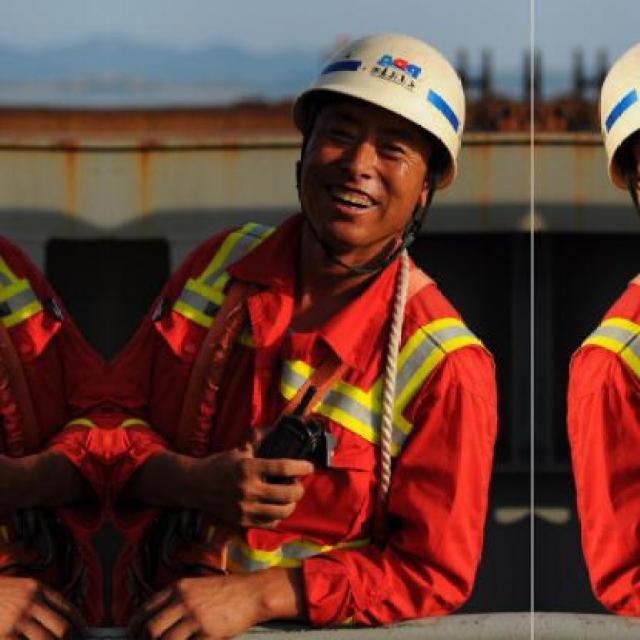Reflective-Jacket: (101, 219, 517, 631), (0, 197, 109, 618), (555, 247, 640, 626)
Safety-Helmet: (283, 26, 485, 191), (591, 28, 638, 163)
